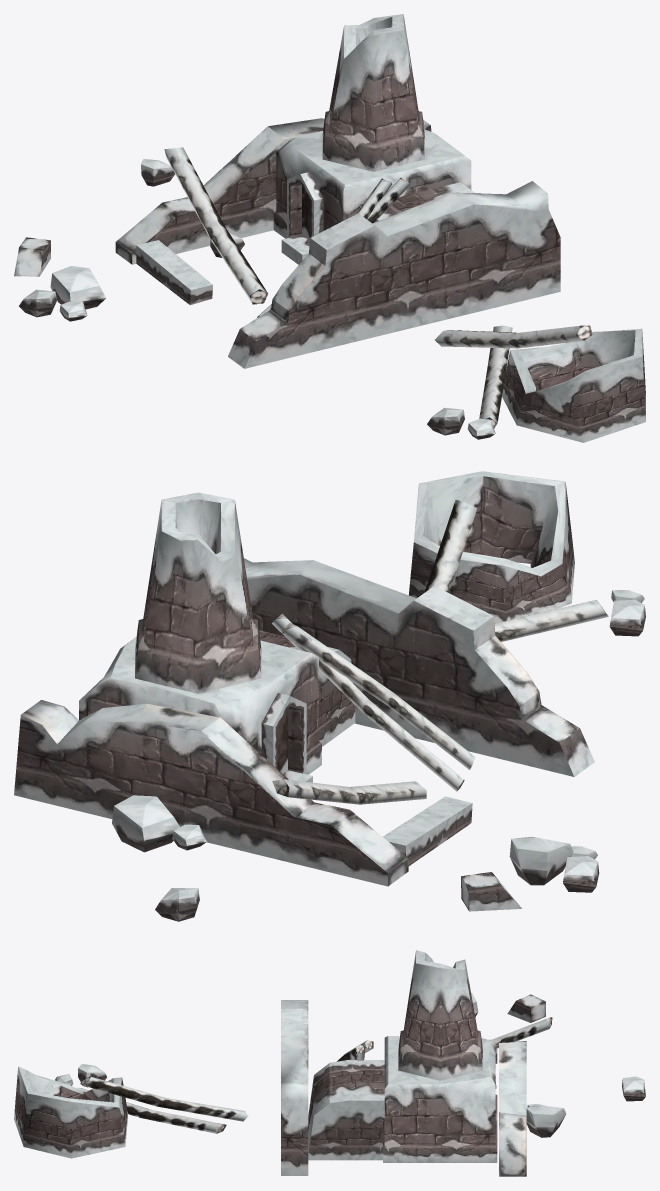
The model's file is environment_building_xuedifeixu_001_a.FBX.
3 views of the same model, one above another, from view 1: azimuth 30°, elevation 25°; view 2: azimuth 150°, elevation 25°; view 3: azimuth 270°, elevation 25° (orthographic). The views are drawn at different scales.
Visible parts, largest first — view 1: environment_building_xuedifeixu_001_a; view 2: environment_building_xuedifeixu_001_a; view 3: environment_building_xuedifeixu_001_a.
Boxes of the visible parts, box(x1,y1,x2,y2) form: environment_building_xuedifeixu_001_a: box(14, 14, 645, 442); environment_building_xuedifeixu_001_a: box(14, 471, 645, 921); environment_building_xuedifeixu_001_a: box(14, 950, 645, 1176).
Size of the model in its own units: 332 by 164 by 503.
